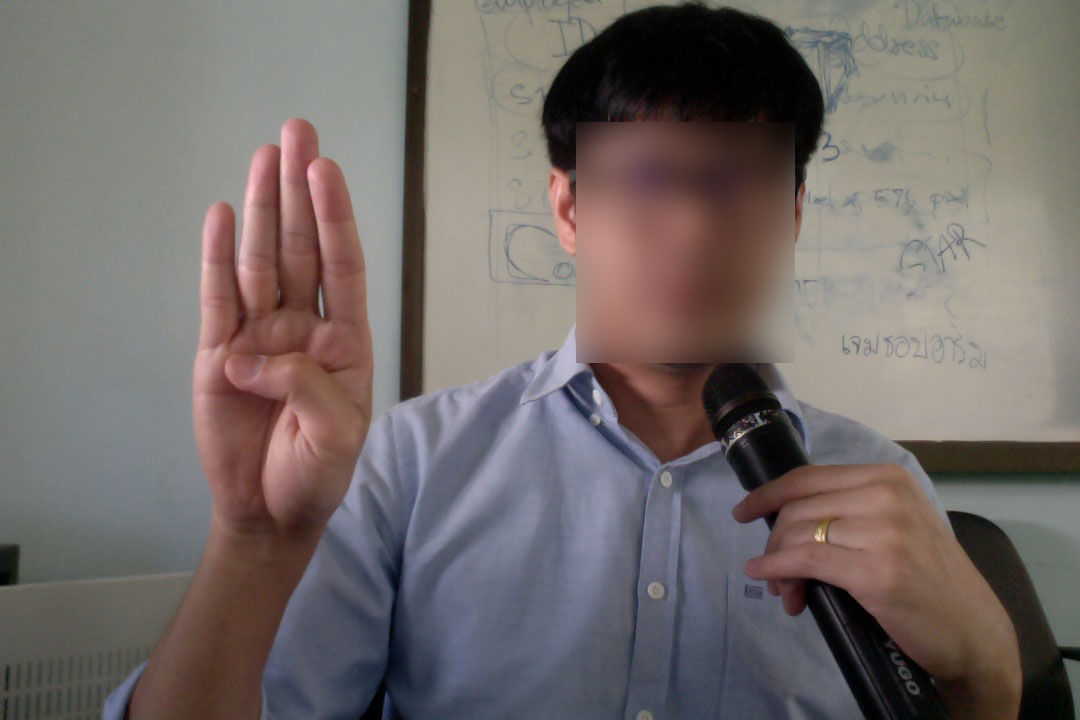bor: (184, 110, 382, 561)
